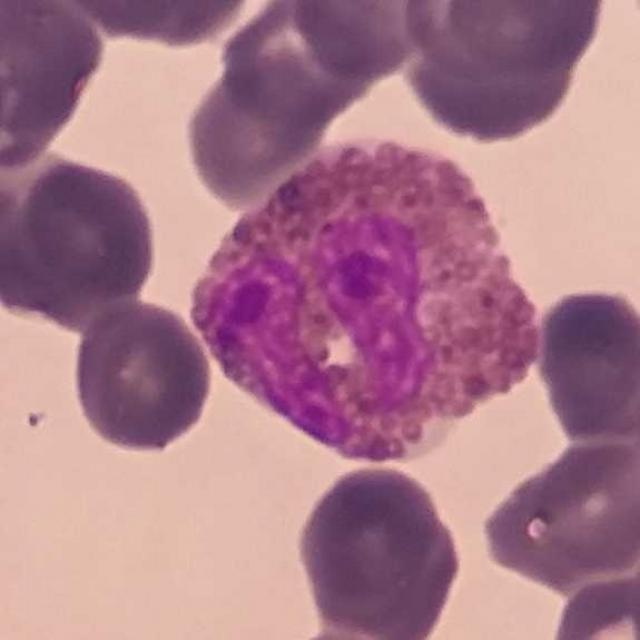Eosinophil: (175, 117, 560, 490)
RBC: (292, 461, 464, 639), (397, 3, 598, 147), (10, 150, 164, 322), (474, 433, 640, 590), (68, 296, 216, 458), (180, 62, 332, 210), (215, 1, 388, 128), (532, 282, 640, 448), (0, 0, 109, 158), (435, 0, 613, 78), (287, 0, 432, 85), (394, 0, 534, 81), (99, 0, 266, 51), (35, 0, 204, 40), (545, 569, 640, 640), (0, 171, 28, 324)
